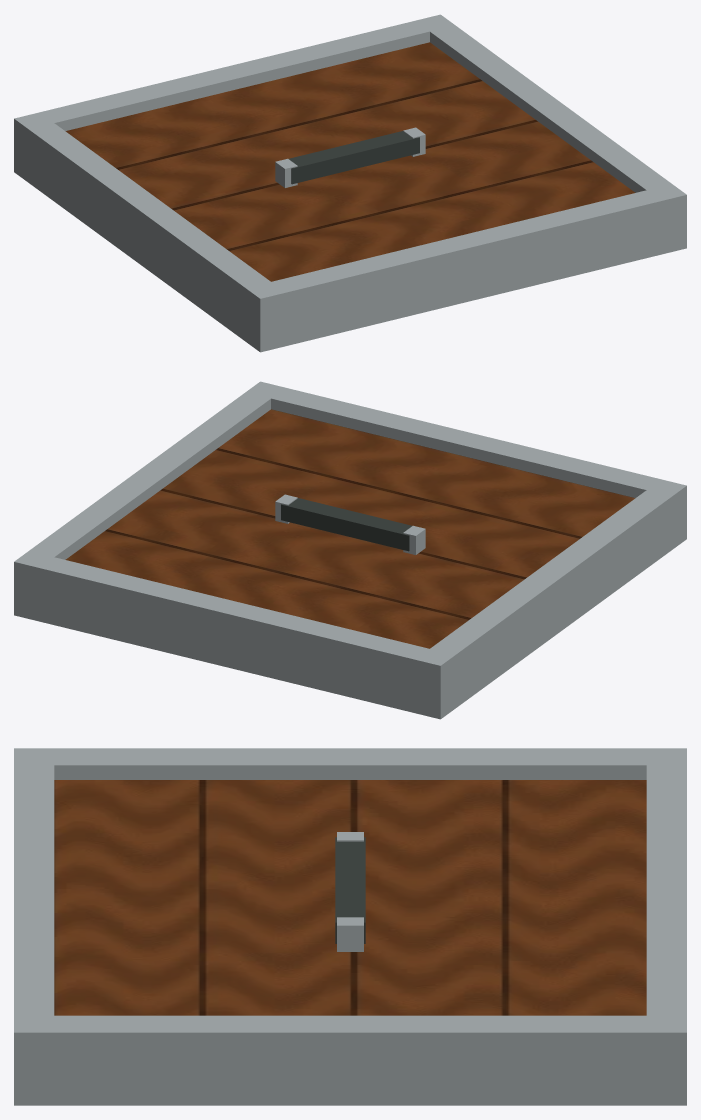
File: prehistoric-survivor-settlement-storage-pit-cover-1d4b1159__23190.glb
3 views of the same model, one above another, from view 1: azimuth 30°, elevation 25°; view 2: azimuth 150°, elevation 25°; view 3: azimuth 270°, elevation 25° (orthographic). The views are drawn at different scales.
Parts seen in each view (by area): view 1: hatch-lid/wood, storage-pit-cover, hatch-lid/dark, hatch-lid/metal; view 2: hatch-lid/wood, storage-pit-cover, hatch-lid/dark, hatch-lid/metal; view 3: hatch-lid/wood, storage-pit-cover, hatch-lid/dark, hatch-lid/metal.
Part boxes in pixels (<box>): hatch-lid/wood: <box>65,42,635,281</box>; storage-pit-cover: <box>14,14,686,352</box>; hatch-lid/dark: <box>289,131,419,184</box>; hatch-lid/metal: <box>275,127,425,187</box>; hatch-lid/wood: <box>65,409,635,648</box>; storage-pit-cover: <box>14,381,686,719</box>; hatch-lid/dark: <box>281,498,411,551</box>; hatch-lid/metal: <box>275,494,425,554</box>; hatch-lid/wood: <box>54,780,646,1015</box>; storage-pit-cover: <box>14,748,686,1105</box>; hatch-lid/dark: <box>335,837,365,943</box>; hatch-lid/metal: <box>337,832,363,951</box>.
Size of the model in its own units: 1 by 0.139 by 1.
Materials: 3 (1 with a texture image).
